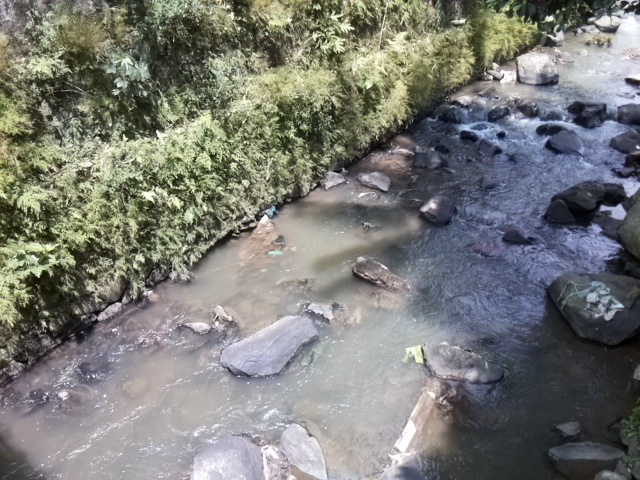Sampah_Plastik: (557, 280, 626, 323), (263, 207, 278, 219)
